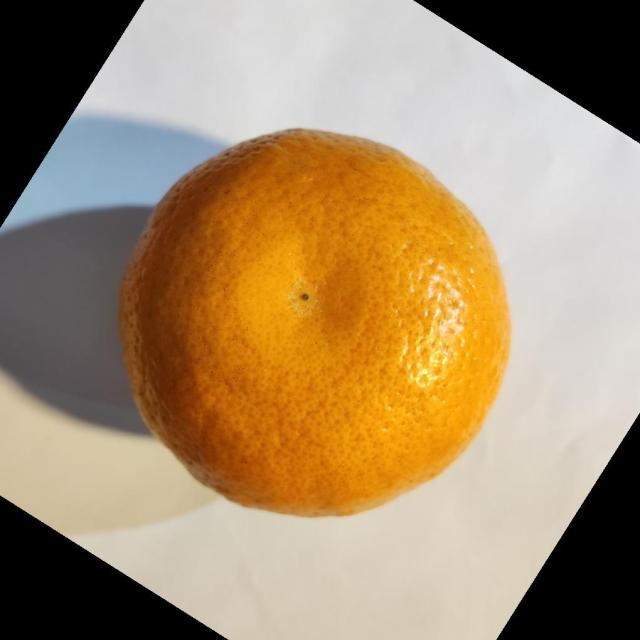agrume: (117, 126, 512, 518)
